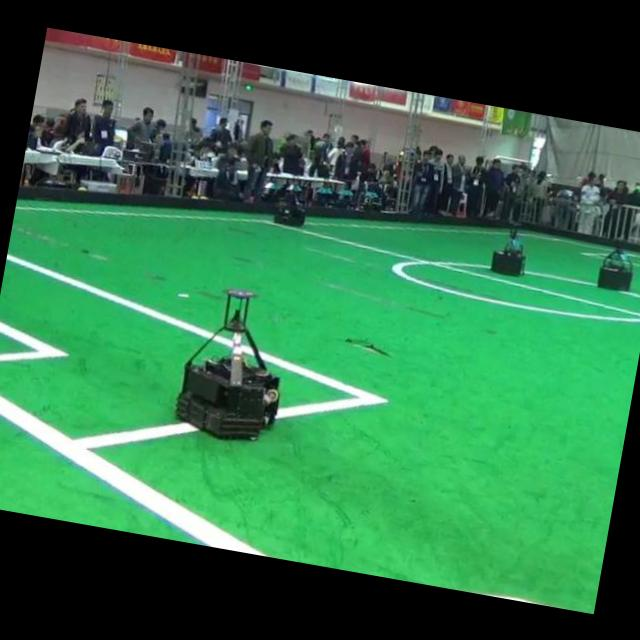robot: (176, 288, 278, 438), (490, 224, 524, 274), (597, 245, 632, 289), (273, 184, 306, 225)
